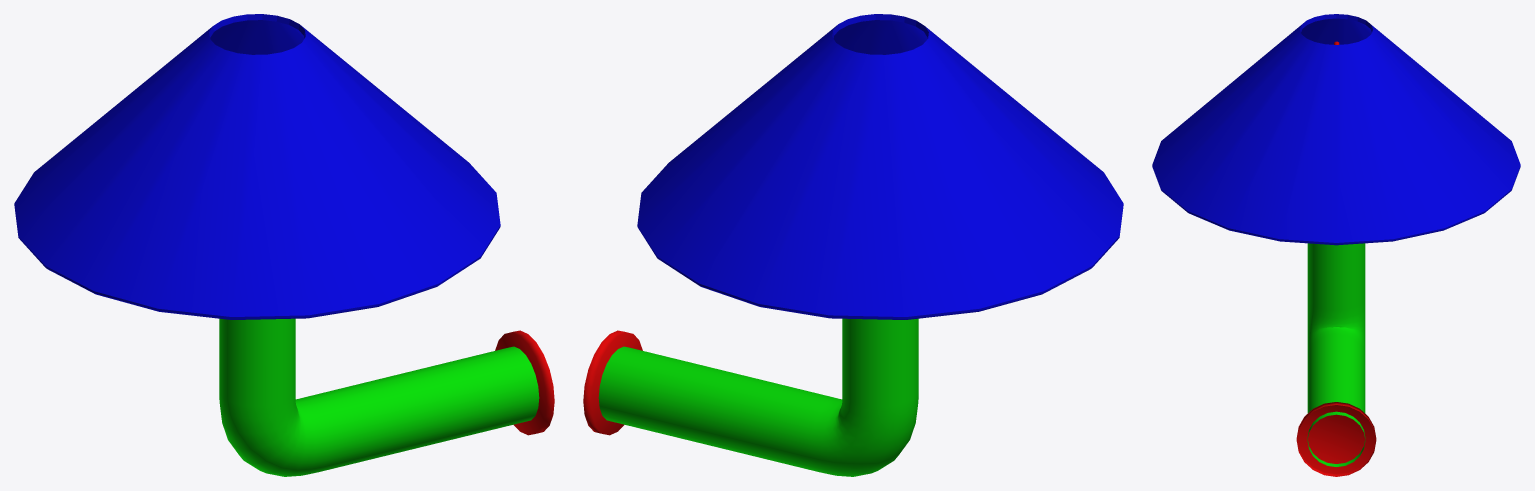
The model's file is staticMesh_Wall_Light_Blockout.fbx.
The picture shows the model from 3 angles, left to right: view 1: azimuth 30°, elevation 25°; view 2: azimuth 150°, elevation 25°; view 3: azimuth 270°, elevation 25°; orthographic projection. The views are drawn at different scales.
Visible parts, largest first — view 1: pCylinder2; view 2: pCylinder2; view 3: pCylinder2.
Boxes of the visible parts, x1,y1,x2,y2 form: pCylinder2: [14, 14, 554, 476]; pCylinder2: [583, 14, 1123, 476]; pCylinder2: [1152, 14, 1520, 476].
Bounding box in the file's own units: 47.28 × 43.19 × 41.49.
